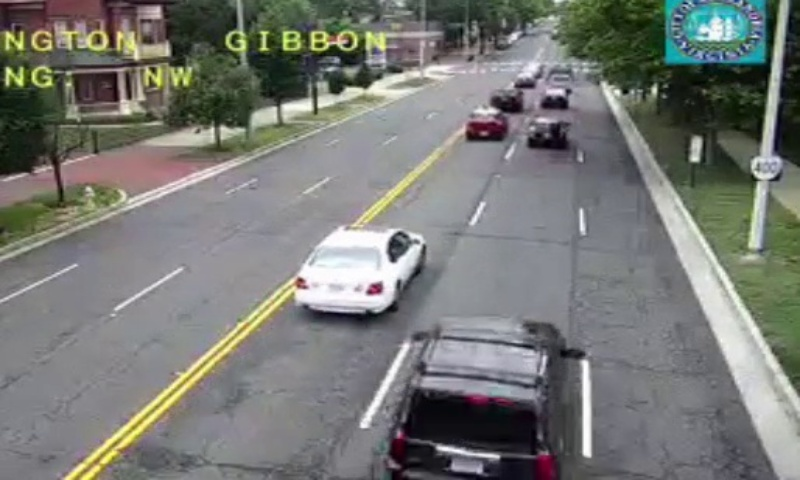car: (379, 315, 566, 480), (292, 227, 424, 314), (463, 108, 504, 139), (526, 119, 563, 146), (488, 89, 521, 113), (540, 87, 569, 108)
